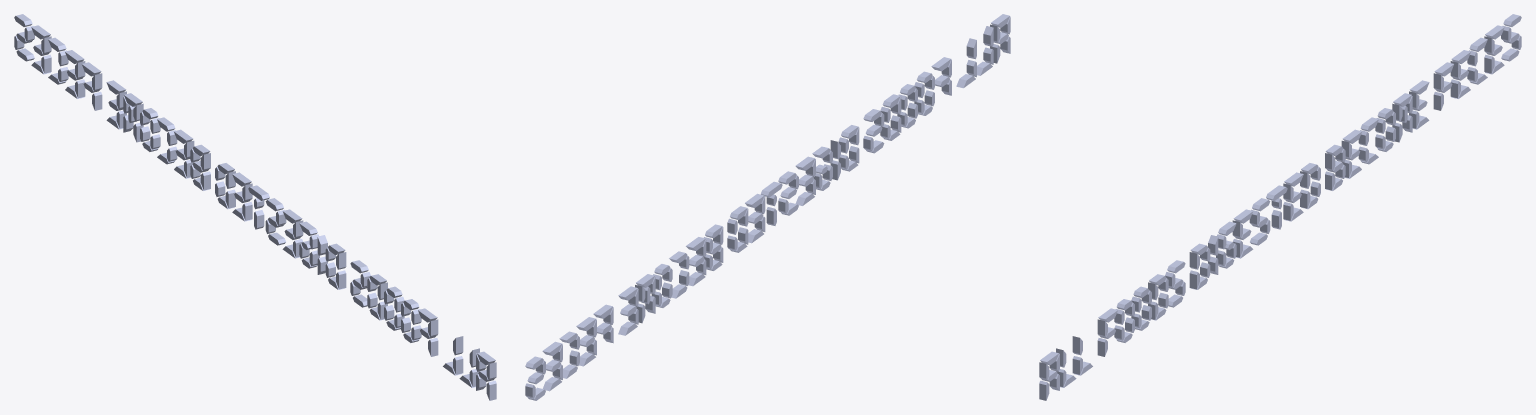
File: ALL FOODS DIGESTED BECOME FECES.FBX
3 views of the same model, side by side, from view 1: azimuth 30°, elevation 25°; view 2: azimuth 150°, elevation 25°; view 3: azimuth 330°, elevation 25° (orthographic).
Bounding box in the file's own units: 19.69 × 100 × 2236.
